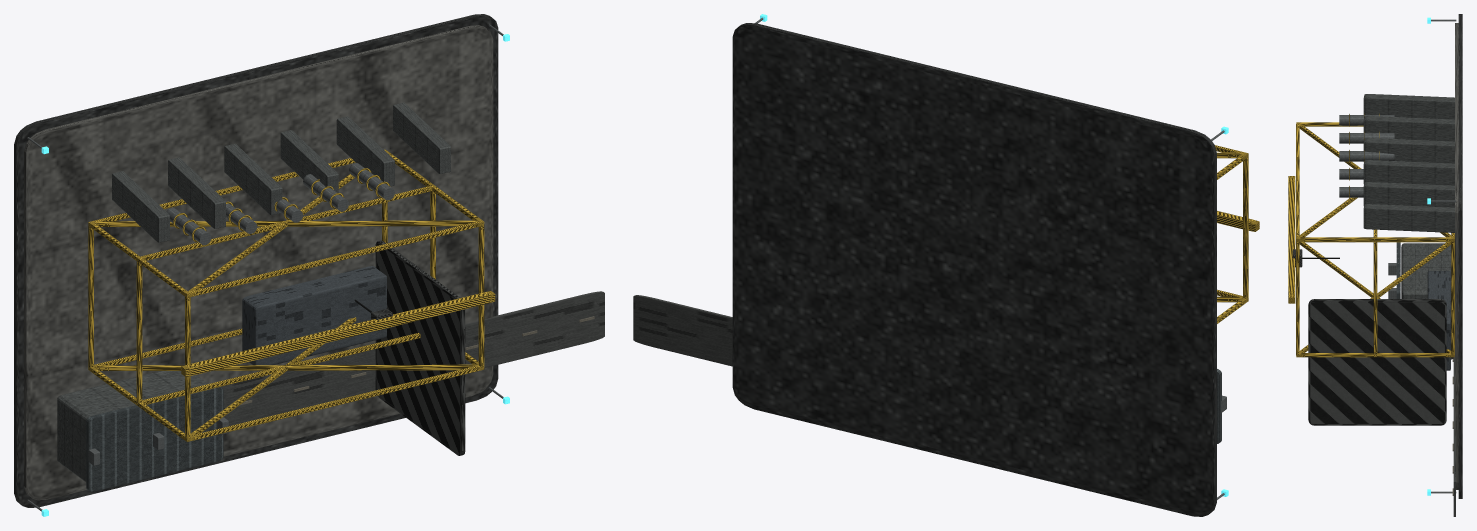
File: b-17-heavy-factory-lod0.glb
3 renders of one model, left to right at view 1: azimuth 30°, elevation 25°; view 2: azimuth 150°, elevation 25°; view 3: azimuth 270°, elevation 25°, orthographic. The views are drawn at different scales.
Visible parts, largest first — view 1: foundation_inner_pad, foundation, factory_exit_road, factory_door, parts_store_roof, visible_vehicle_chassis, parts_store_main_hall, heavy_crane_bridge, factory_buttress_0, factory_buttress_1, factory_buttress_5, factory_buttress_2 (+19 smaller); view 2: foundation, factory_exit_road, heavy_crane_beam_y_2_w; view 3: factory_door, foundation, factory_buttress_5, factory_buttress_3, factory_buttress_4, factory_buttress_0, parts_store_main_hall, factory_buttress_1, factory_buttress_2, foundation_inner_pad, visible_vehicle_chassis, heavy_crane_bridge (+19 smaller).
Boxes of the visible parts, <box> form: foundation_inner_pad: <box>24,25,493,500</box>; foundation: <box>14,14,498,507</box>; factory_exit_road: <box>221,291,604,425</box>; factory_door: <box>375,240,465,455</box>; parts_store_roof: <box>86,387,223,491</box>; visible_vehicle_chassis: <box>242,266,386,365</box>; parts_store_main_hall: <box>57,371,207,482</box>; heavy_crane_bridge: <box>181,291,495,376</box>; factory_buttress_0: <box>112,171,169,242</box>; factory_buttress_1: <box>168,157,225,228</box>; factory_buttress_5: <box>393,102,450,173</box>; factory_buttress_2: <box>224,143,282,215</box>; foundation: <box>732,23,1216,516</box>; factory_exit_road: <box>633,295,732,366</box>; heavy_crane_beam_y_2_w: <box>1243,152,1248,298</box>; factory_door: <box>1308,299,1446,425</box>; foundation: <box>1458,14,1462,498</box>; factory_buttress_5: <box>1363,204,1454,232</box>; factory_buttress_3: <box>1363,160,1454,185</box>; factory_buttress_4: <box>1363,182,1454,207</box>; factory_buttress_0: <box>1363,94,1454,119</box>; parts_store_main_hall: <box>1401,243,1451,298</box>; factory_buttress_1: <box>1363,116,1454,141</box>; factory_buttress_2: <box>1363,138,1454,163</box>; foundation_inner_pad: <box>1455,23,1458,489</box>; visible_vehicle_chassis: <box>1427,271,1450,370</box>; heavy_crane_bridge: <box>1288,176,1295,303</box>.
Size of what is drawn, in the model's own units: 25.5 by 16 by 8.2.
12 materials, 12 textured.
